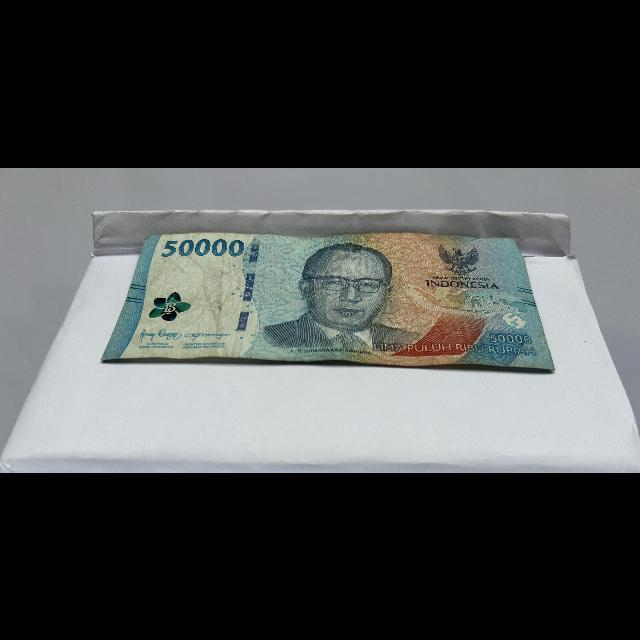Asli-50k: (98, 230, 559, 373)
Tinta-Asli-50k: (147, 290, 195, 323)
